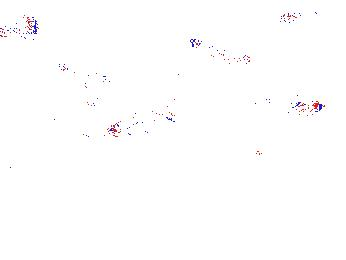X-ray fish: (146, 1, 186, 14)
glassfish: (73, 92, 165, 145), (1, 94, 75, 141)
red belly glassfish: (263, 95, 326, 117), (278, 7, 323, 26)
redtail glassfish: (104, 101, 178, 138), (188, 37, 253, 68), (56, 61, 115, 86)
